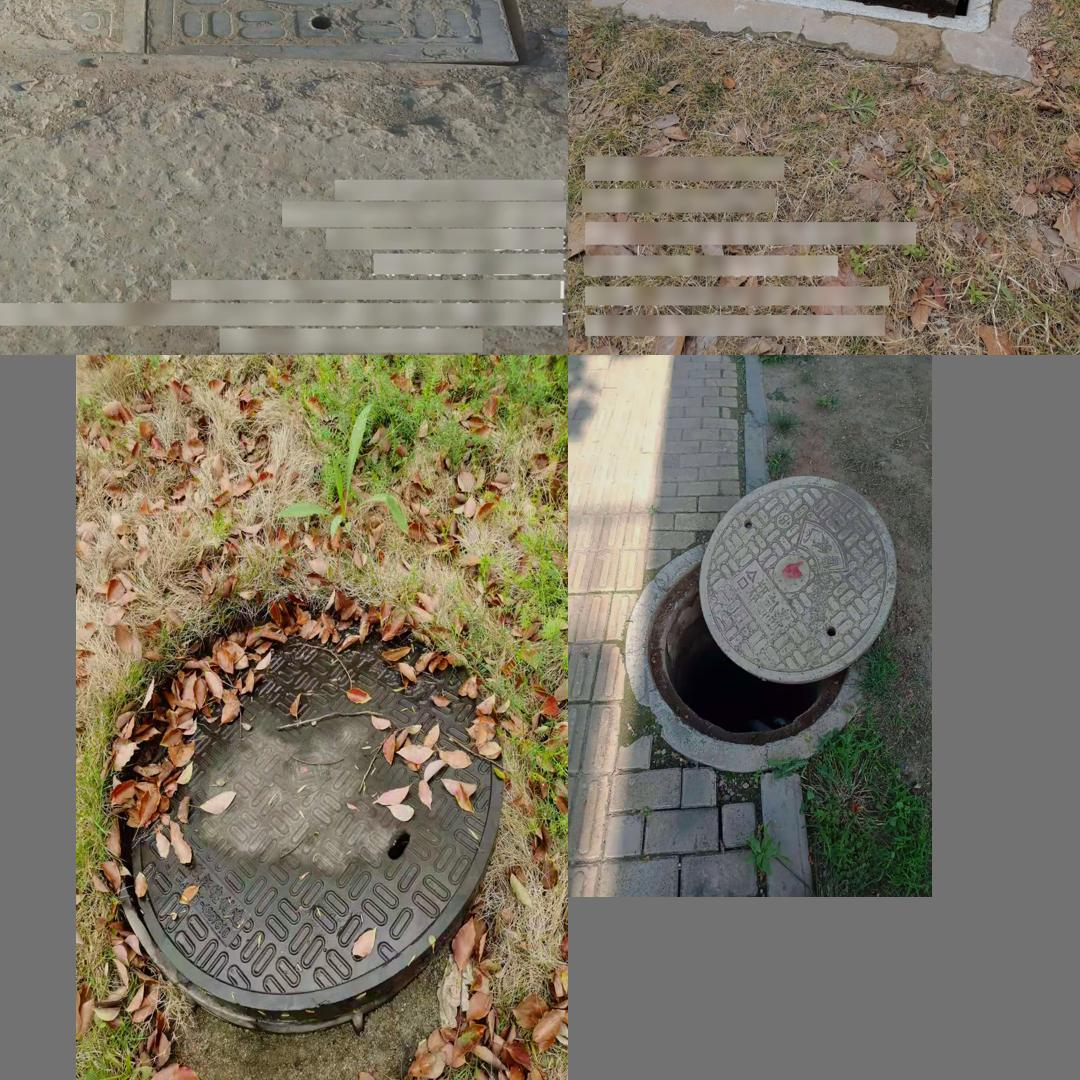uncovered: (107, 599, 501, 1033), (625, 473, 895, 777), (0, 0, 528, 69), (569, 0, 1016, 32)
